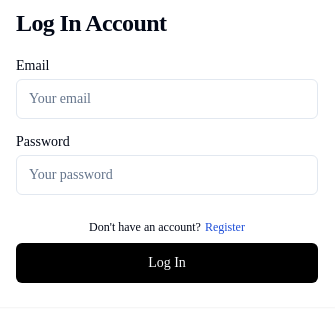
it: LoginCard › display incorrect credentials message; login error
Type "test@example.com" into the field with placeholder "Your email" at [167, 99], box [16,79,318,119]
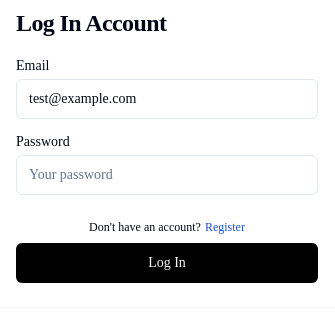
Type "testpassword" into the password field with placeholder "Your password" at [167, 175], box [16,155,318,195]
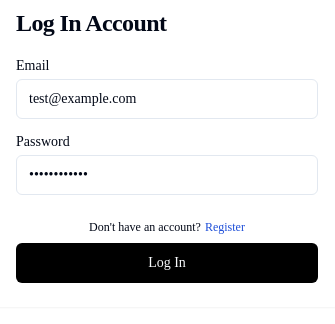
Click the button "Log In" at [167, 263], box [16,243,318,283]
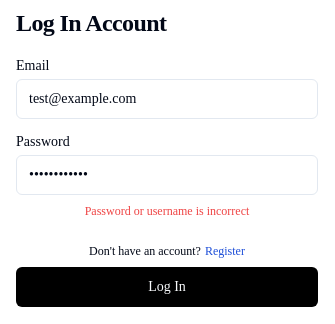
Expected: the text "Password or username is incorrect" is shown, [85,203,249,219]
